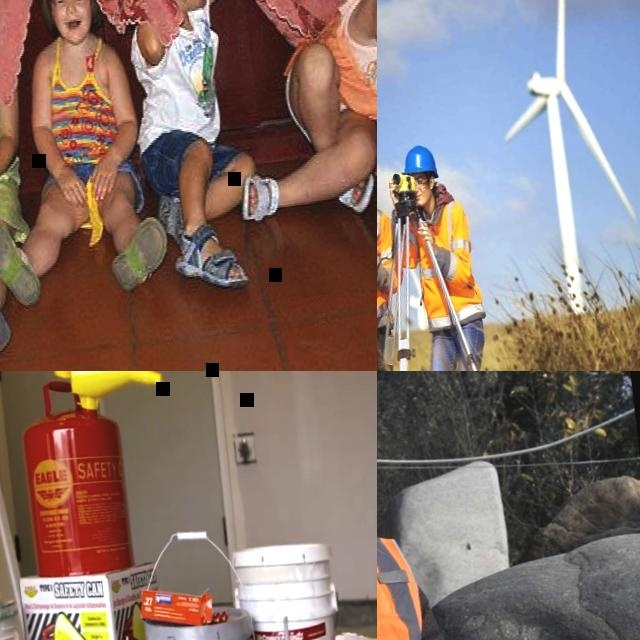Hardhat: (398, 143, 439, 181)
NO-Mask: (55, 11, 91, 45), (414, 187, 432, 207), (187, 0, 212, 13)
NO-Safety Vest: (134, 9, 224, 147), (41, 37, 120, 163), (318, 0, 377, 124)
Person: (377, 371, 616, 640), (0, 0, 173, 311), (118, 0, 269, 297), (208, 0, 377, 227), (386, 137, 505, 371), (0, 26, 44, 371), (377, 136, 423, 371)
Safety Vest: (404, 196, 489, 332), (377, 199, 404, 325)
